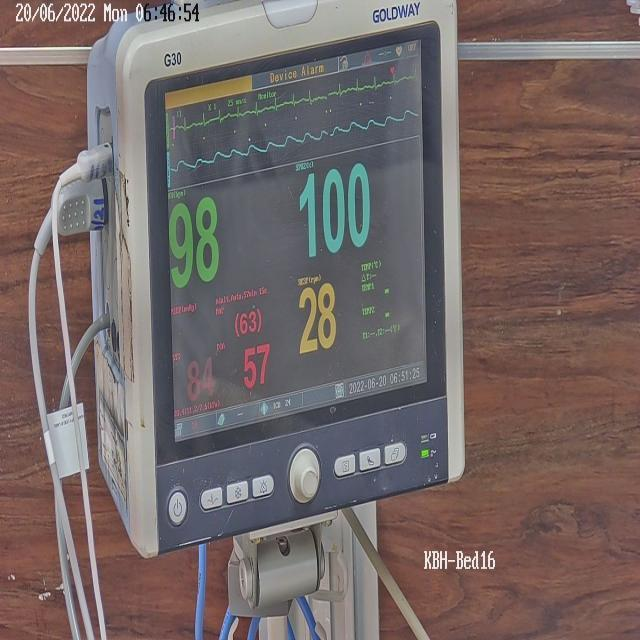Monitor: (86, 0, 466, 559)
